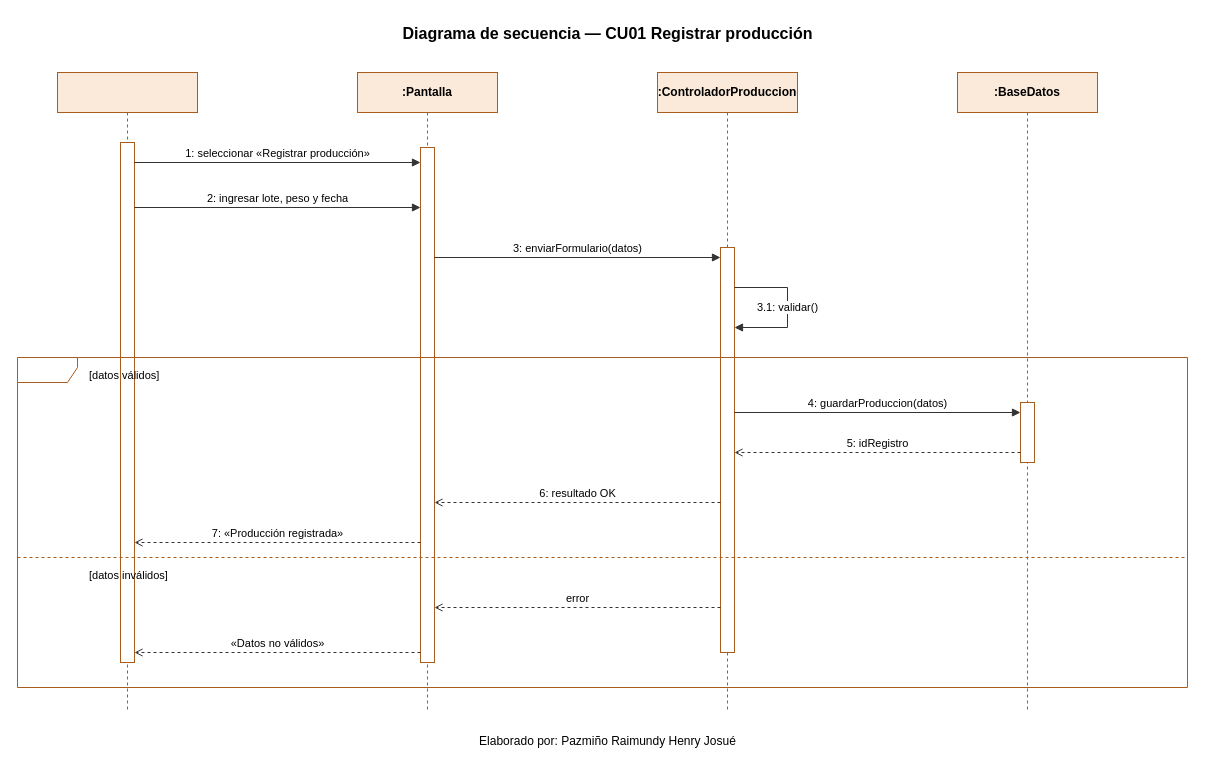
Some shapes in this 1206 by 770 pixel diagram are drawn without their labels. Here are the shapes that lost their labels. From the top down, the box of each, then its label:
(56, 72, 198, 712): Operario
(16, 356, 1188, 688): alt
